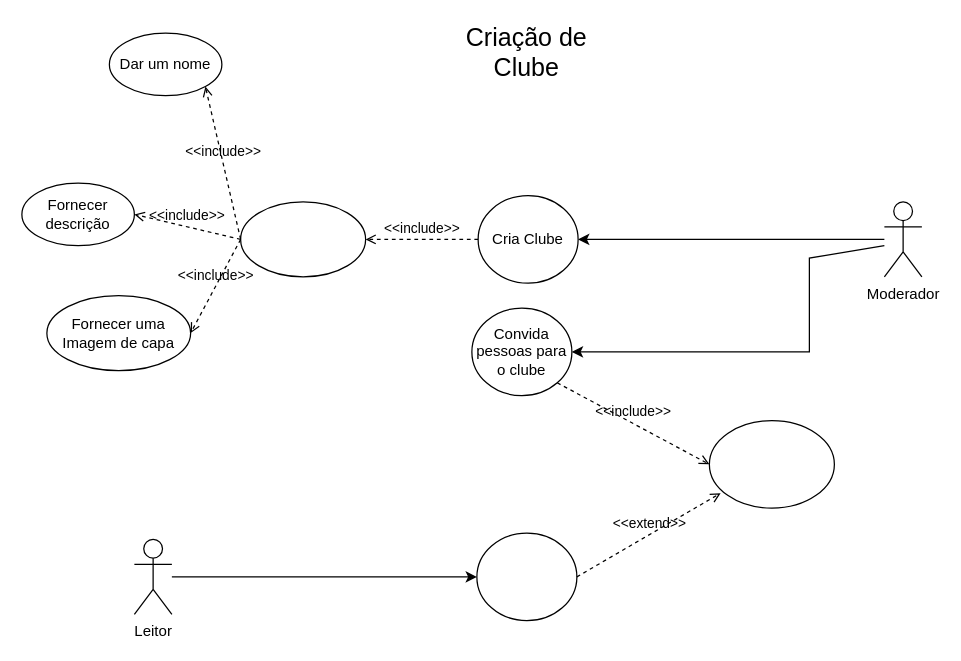
Image size: 961x661. Some labels were removed from this diagram. Here are the shapes that lost their labels. From the top down, the centre of each, then its label:
At point (302, 239): "Fornecer Informações do clube".
At point (771, 463): "Envio para e-mail do convidado".
At point (526, 576): "Recebe convite".
